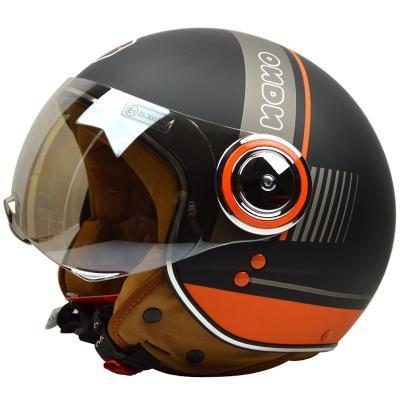with_helmet: (9, 27, 397, 363)
